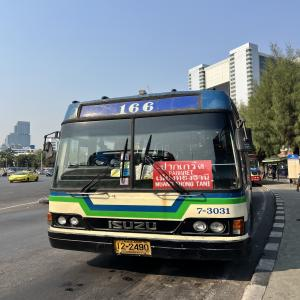BMTA-bus: (47, 89, 273, 270)
Bus Line Number: (115, 102, 157, 116)
Bus Side Number: (191, 203, 234, 218)
Destination Sign: (151, 161, 214, 189)
